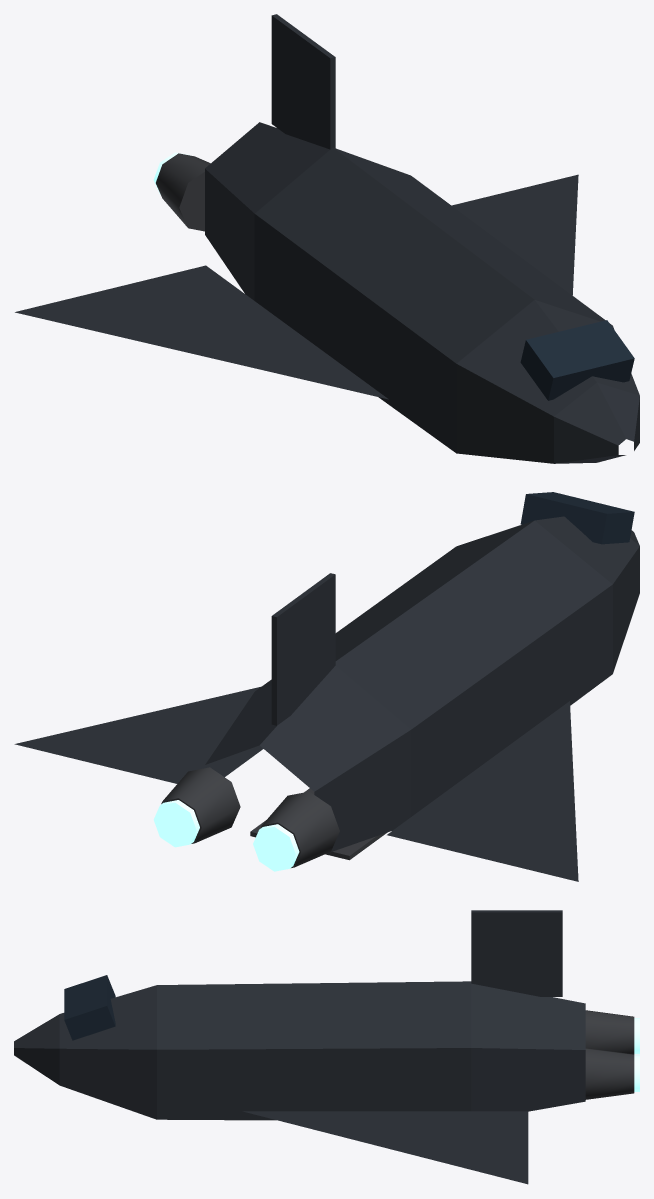
Rendered from space_ship_shuttle_mk4.glb.
The picture shows the model from 3 angles, top to bottom: view 1: azimuth 30°, elevation 25°; view 2: azimuth 150°, elevation 25°; view 3: azimuth 270°, elevation 25°; orthographic projection. The views are drawn at different scales.
Parts seen in each view (by area): view 1: body, engine_1; view 2: body, engine_1, engine_0, ramp; view 3: body, engine_0, engine_1.
Part boxes in pixels (box(x1,y1,x2,y2)): body: box(15, 14, 639, 463); engine_1: box(153, 152, 210, 231); body: box(14, 492, 639, 881); engine_1: box(253, 791, 339, 871); engine_0: box(153, 767, 240, 847); ramp: box(250, 788, 387, 860); body: box(14, 910, 585, 1184); engine_0: box(585, 1048, 639, 1099); engine_1: box(585, 1010, 639, 1054).
Size of what is drawn, in the model's own units: 10.88 by 4.61 by 13.4.
